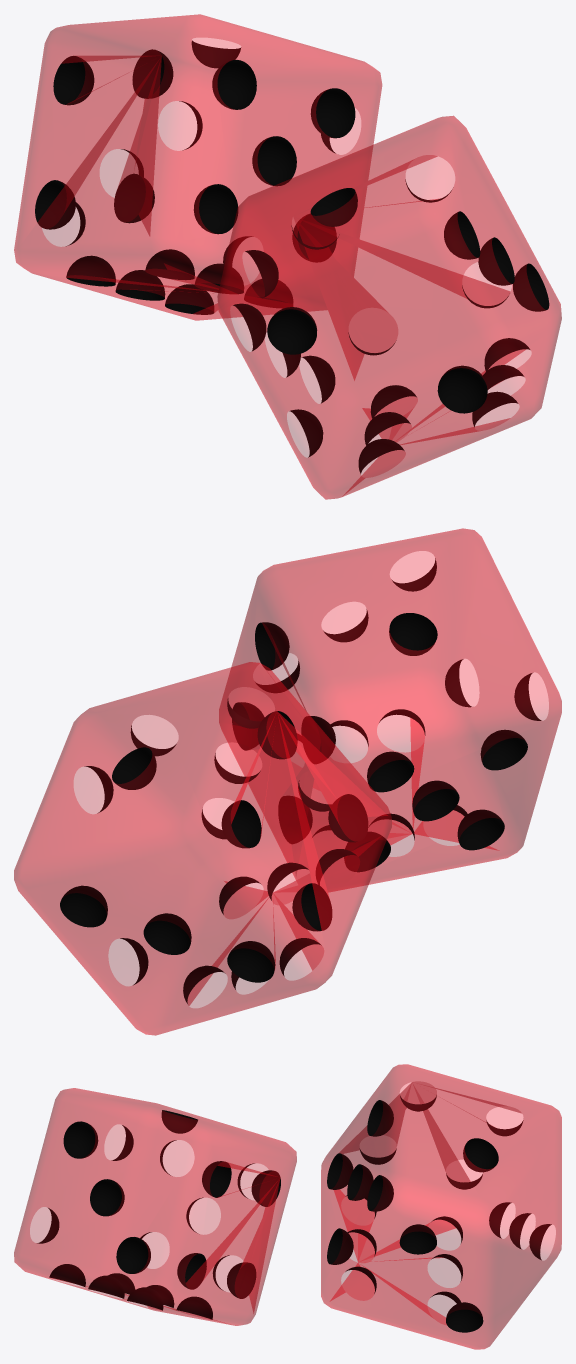
File: WeightedDice.fbx
3 views of the same model, one above another, from view 1: azimuth 30°, elevation 25°; view 2: azimuth 150°, elevation 25°; view 3: azimuth 270°, elevation 25° (orthographic). The views are drawn at different scales.
Visible parts, largest first — view 1: Cube, Cube.001; view 2: Cube.001, Cube; view 3: Cube.001, Cube.
Part boxes in pixels (<box>): Cube: <box>217,115,561,499</box>; Cube.001: <box>14,14,382,320</box>; Cube.001: <box>14,662,391,1035</box>; Cube: <box>219,528,561,892</box>; Cube.001: <box>321,1064,561,1349</box>; Cube: <box>14,1088,296,1325</box>.
Size of the model in its own units: 311 by 304 by 575.
